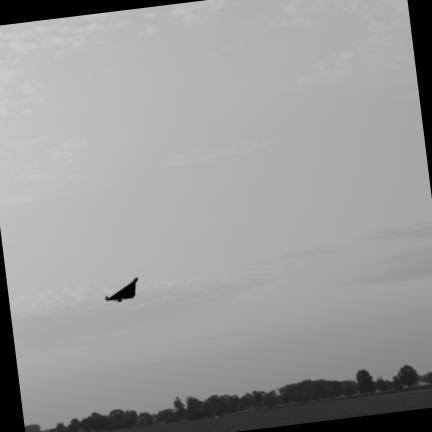Shahed: (106, 277, 136, 301)
